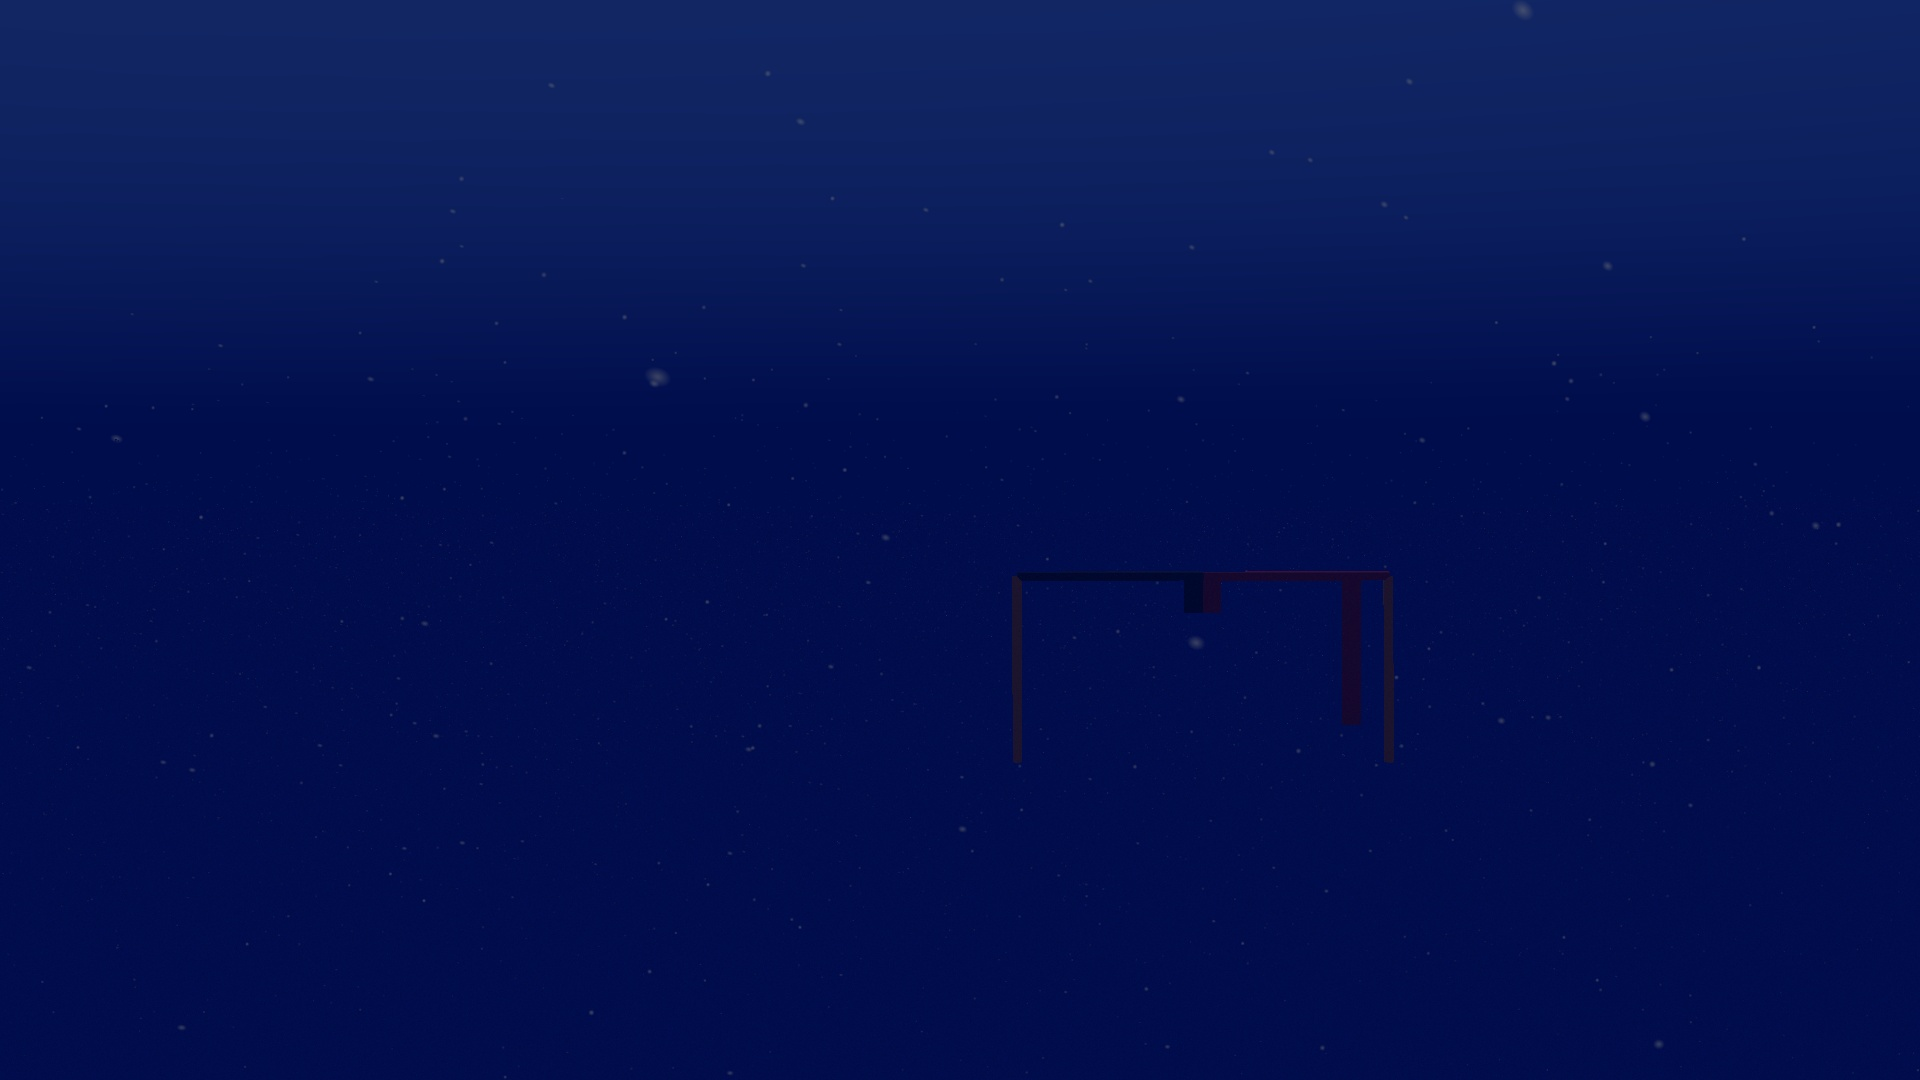Gate: (1000, 564, 1406, 781)
